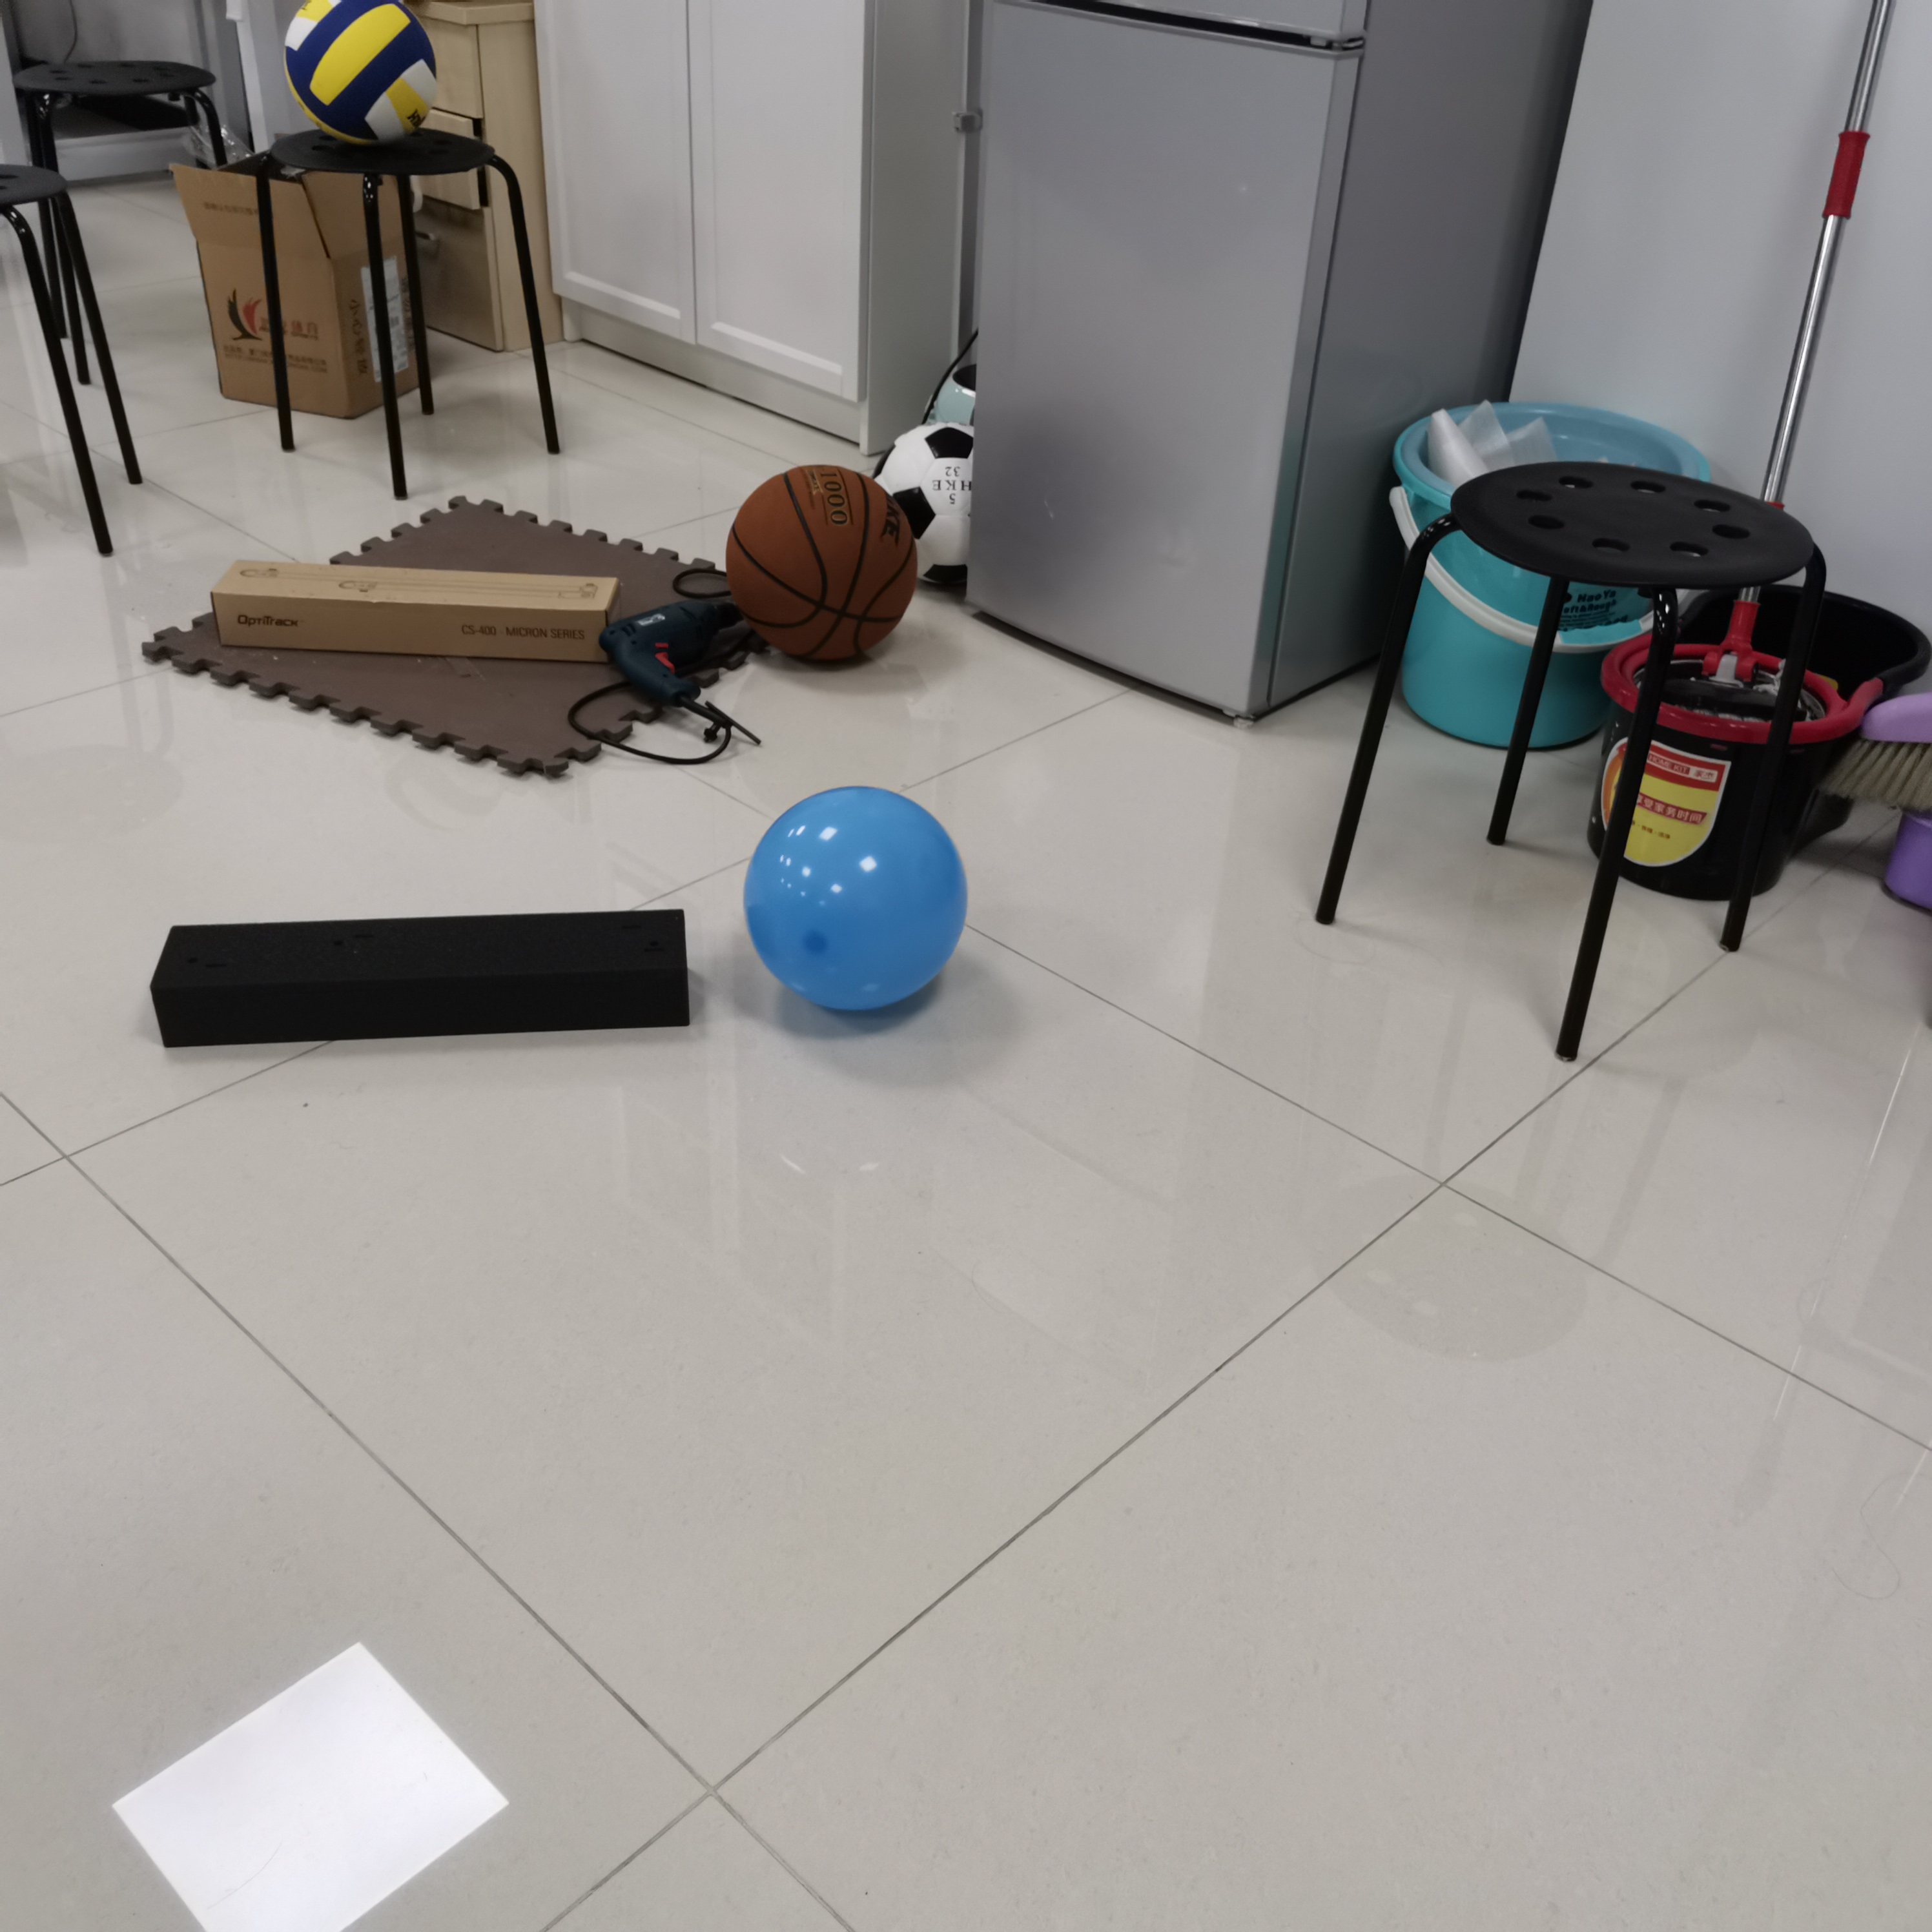balloon: (743, 789, 966, 1016)
basketball: (729, 464, 920, 665)
football: (899, 426, 973, 593)
volleyball: (285, 2, 437, 143)
